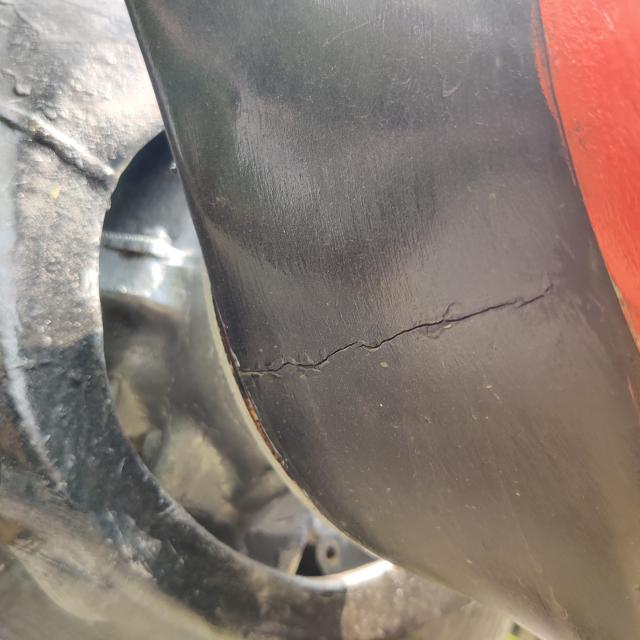crack: (226, 256, 568, 425)
